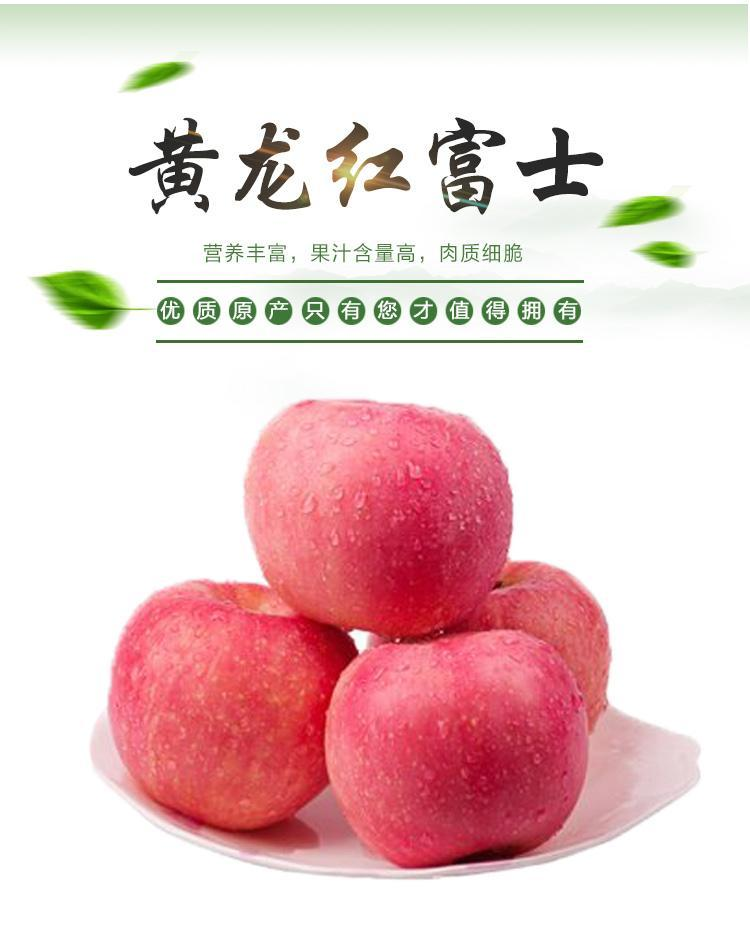apple: (240, 395, 513, 640), (320, 627, 591, 870), (106, 584, 359, 831), (370, 562, 609, 743)
